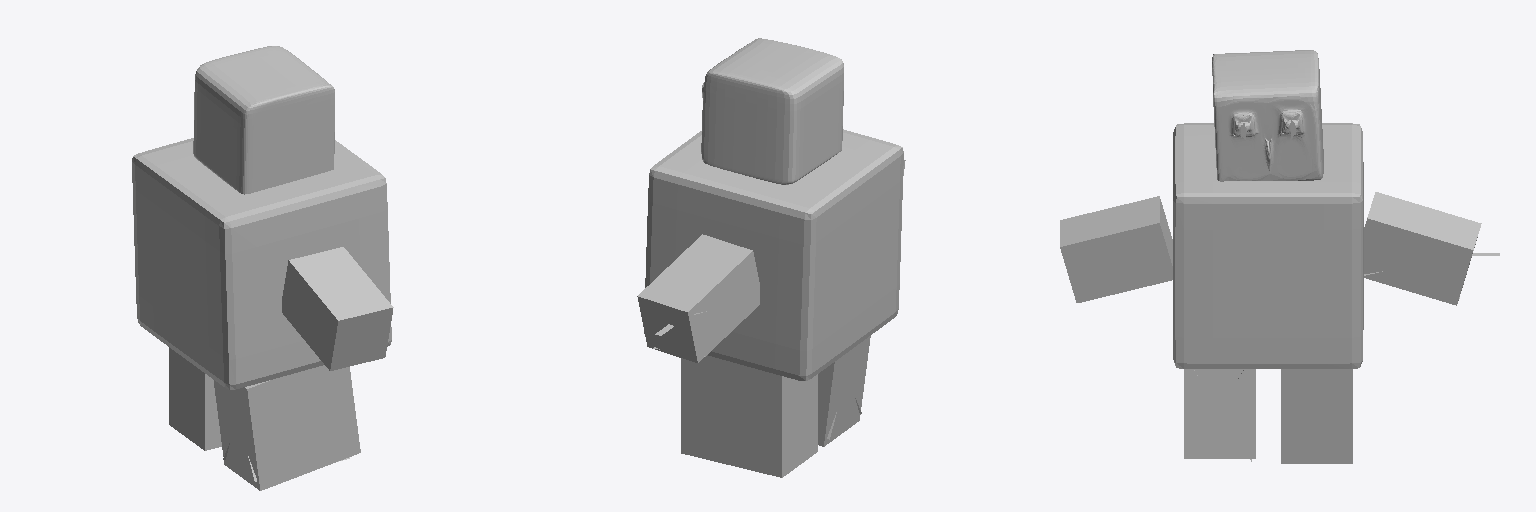
3 renders of one model, left to right at view 1: azimuth 30°, elevation 25°; view 2: azimuth 150°, elevation 25°; view 3: azimuth 270°, elevation 25°, orthographic.
Visible parts, largest first — view 1: Cube_Cube.001, Cube.001_Cube.002, CollisionLL_Cube.003, Cube.005_Cube.007, Cube.003_Cube.004; view 2: Cube_Cube.001, Cube.001_Cube.002, Cube.003_Cube.004, Cube.004_Cube.005, CollisionLL_Cube.003; view 3: Cube_Cube.001, Cube.001_Cube.002, Cube.004_Cube.005, Cube.005_Cube.007, Cube.003_Cube.004, CollisionLL_Cube.003.
Boxes of the visible parts, x1=… form: Cube_Cube.001: x1=132, y1=138, x2=391, y2=389; Cube.001_Cube.002: x1=193, y1=46, x2=334, y2=194; CollisionLL_Cube.003: x1=214, y1=365, x2=360, y2=490; Cube.005_Cube.007: x1=282, y1=247, x2=393, y2=370; Cube.003_Cube.004: x1=169, y1=347, x2=221, y2=450; Cube_Cube.001: x1=644, y1=129, x2=903, y2=380; Cube.001_Cube.002: x1=701, y1=38, x2=843, y2=184; Cube.003_Cube.004: x1=681, y1=355, x2=817, y2=477; Cube.004_Cube.005: x1=637, y1=234, x2=759, y2=362; CollisionLL_Cube.003: x1=818, y1=336, x2=870, y2=446; Cube_Cube.001: x1=1173, y1=123, x2=1363, y2=368; Cube.001_Cube.002: x1=1212, y1=50, x2=1323, y2=181; Cube.004_Cube.005: x1=1364, y1=192, x2=1481, y2=305; Cube.005_Cube.007: x1=1060, y1=196, x2=1172, y2=302; Cube.003_Cube.004: x1=1281, y1=369, x2=1352, y2=463; CollisionLL_Cube.003: x1=1184, y1=369, x2=1255, y2=458.
Bounding box in the file's own units: 1.5 × 3.19 × 3.36.